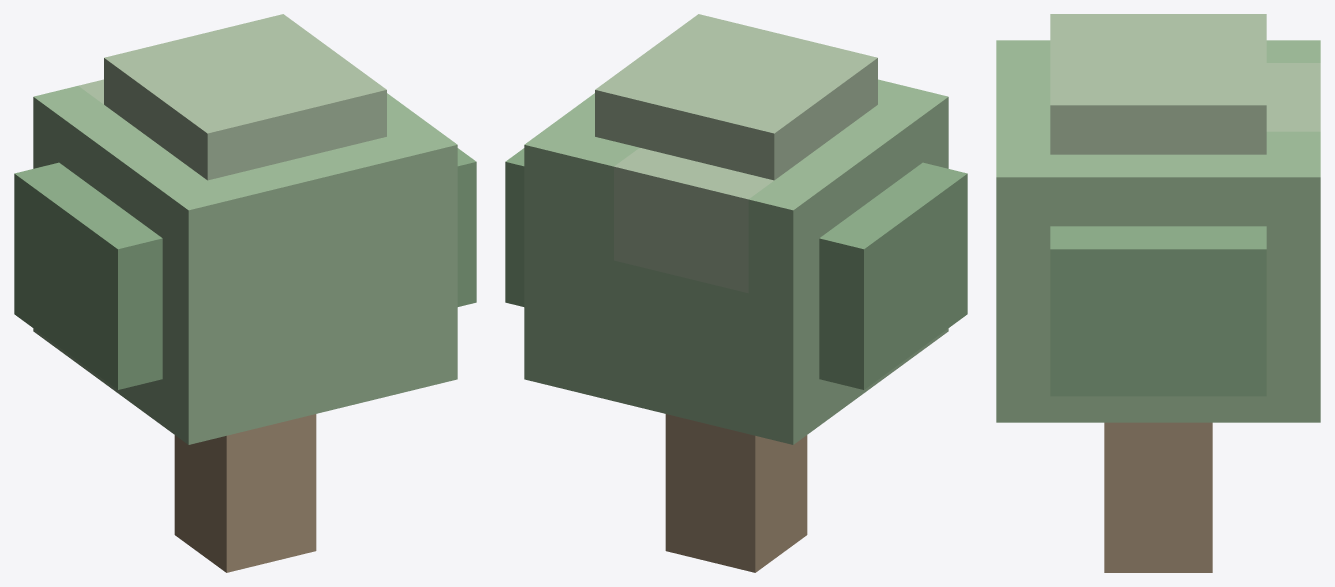
File: tree_round.glb
The picture shows the model from 3 angles, left to right: view 1: azimuth 30°, elevation 25°; view 2: azimuth 150°, elevation 25°; view 3: azimuth 270°, elevation 25°; orthographic projection. The views are drawn at different scales.
Parts seen in each view (by area): view 1: tree_round; view 2: tree_round; view 3: tree_round.
Boxes of the visible parts, box(x1,y1,x2,y2) form: tree_round: box(14, 14, 476, 572); tree_round: box(505, 14, 967, 572); tree_round: box(996, 14, 1320, 572).
Bounding box in the file's own units: 0.8 × 1 × 0.6.
